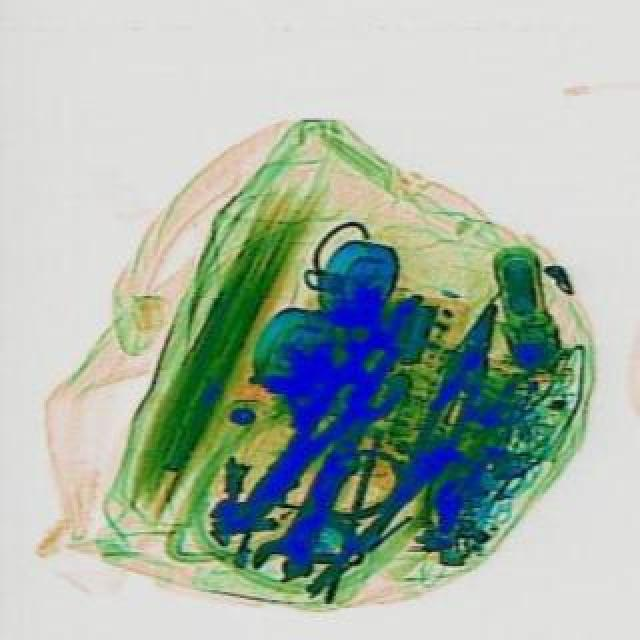scissors: (242, 370, 402, 590)
wrench: (390, 296, 514, 492)
